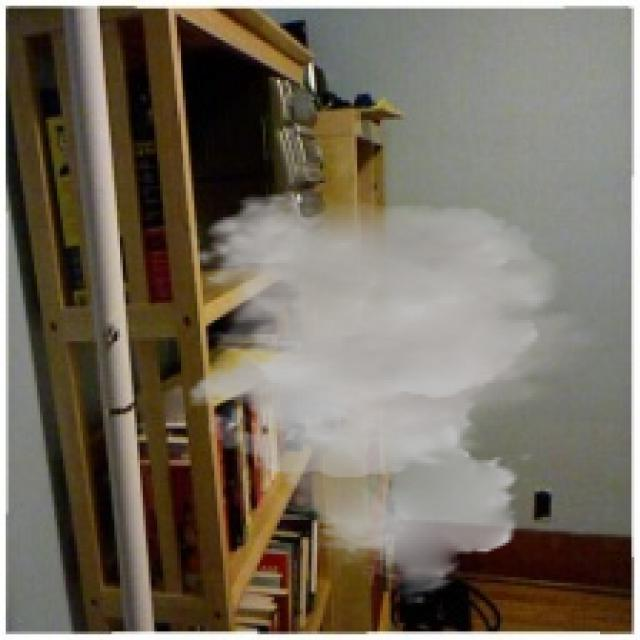Smoke: (186, 191, 608, 606)
